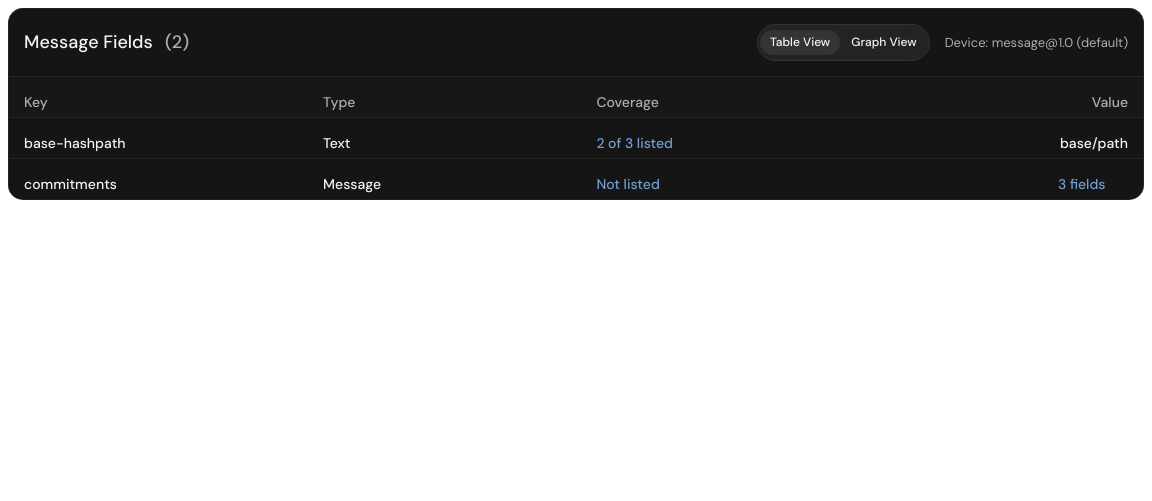
Scenario: expands coverage into the exact commitment-list entries and distinguishes unsigned commitments
This screenshot has width=1152, height=501.
Check: the row "base-hashpath Text 2 of 3 listed base/path" is shown, box [8,118,1144,158]
Click the button "2 of 3 listed": (646, 143) [596,134,696,152]
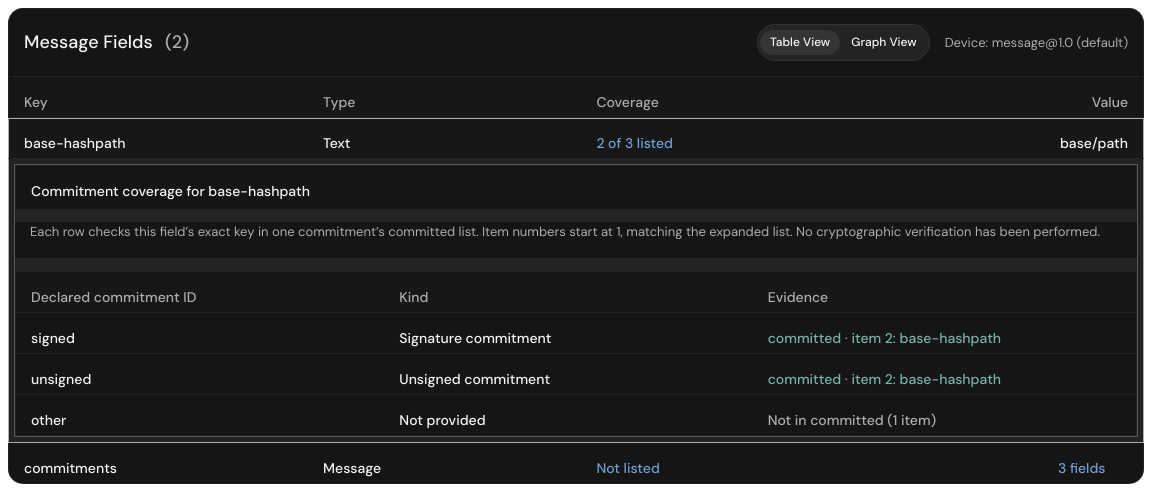
Check: the row that starts with "signed" is shown, box [15,313,1137,354]
Check: the row that starts with "unsigned" is shown, box [15,354,1137,395]
Check: the row "other Not provided Not in committed (1 item)" is shown, box [15,395,1137,436]
Click the button "2 of 3 listed": (646, 143) [596,134,696,152]
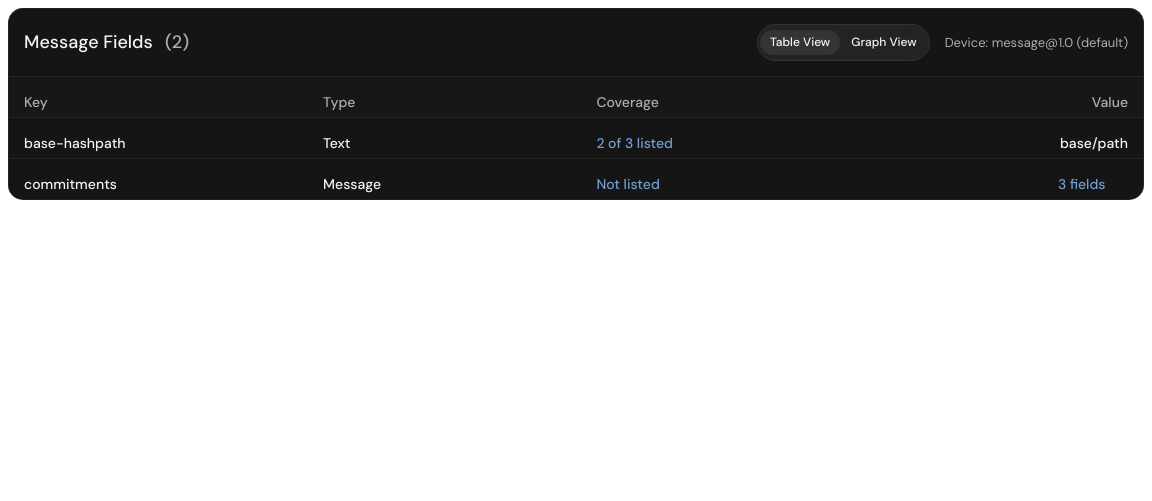
Check: the number of tables is 1, box [8,76,1144,200]
